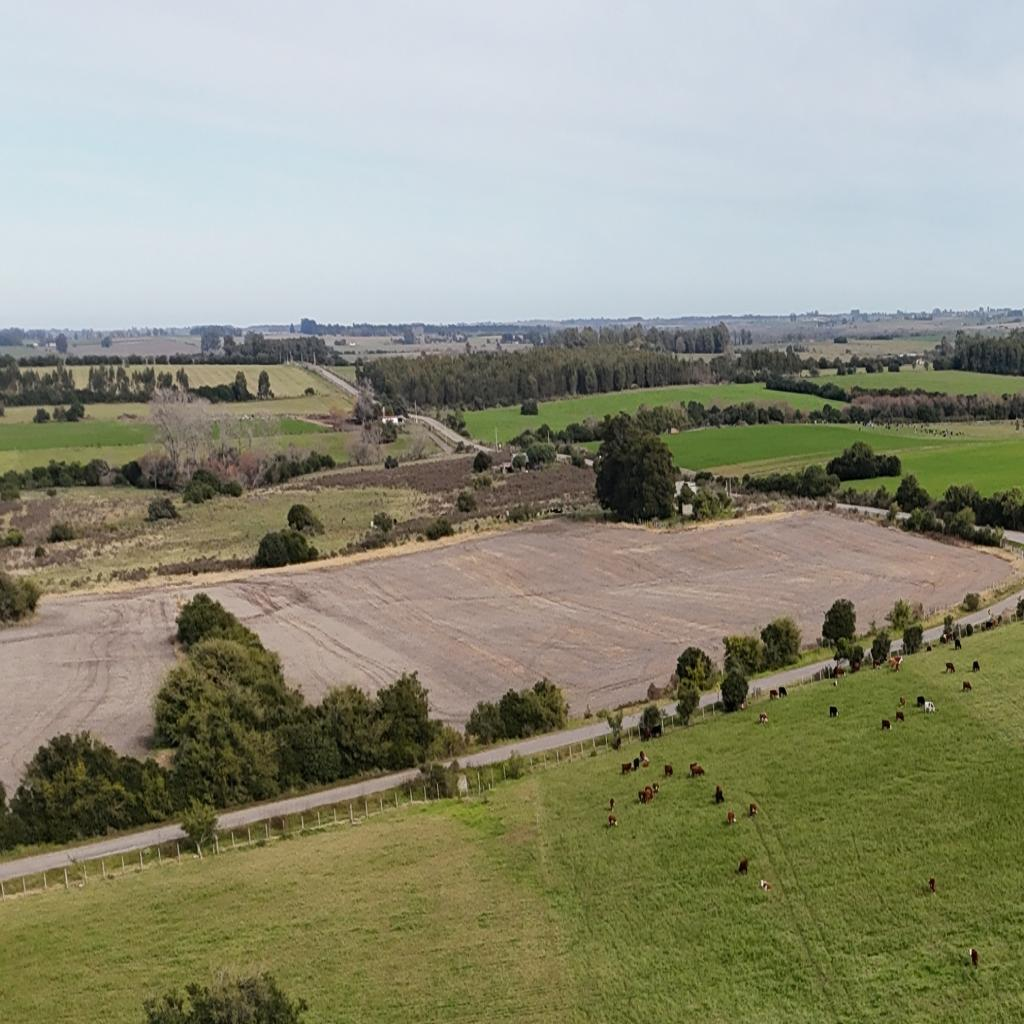cow: (888, 655, 902, 673), (690, 763, 704, 778), (969, 947, 979, 968), (924, 701, 936, 715), (621, 762, 633, 776), (759, 878, 771, 892), (738, 858, 748, 874), (639, 750, 649, 766), (749, 802, 758, 818), (834, 668, 846, 680), (942, 632, 953, 645), (727, 812, 737, 826), (928, 877, 936, 894), (714, 791, 725, 803), (664, 764, 673, 778), (608, 814, 617, 828), (881, 719, 891, 731), (962, 680, 972, 692), (916, 696, 926, 708), (638, 789, 646, 804), (992, 615, 1001, 628), (946, 662, 956, 673), (758, 713, 768, 724), (896, 711, 905, 723), (614, 737, 622, 750), (652, 782, 660, 795), (872, 660, 882, 670), (770, 688, 778, 700), (830, 706, 838, 718), (779, 686, 787, 698), (954, 638, 962, 650), (609, 798, 615, 811), (973, 661, 980, 672), (853, 662, 860, 673), (899, 696, 905, 708), (716, 783, 723, 793), (833, 678, 838, 688), (926, 644, 932, 652)
